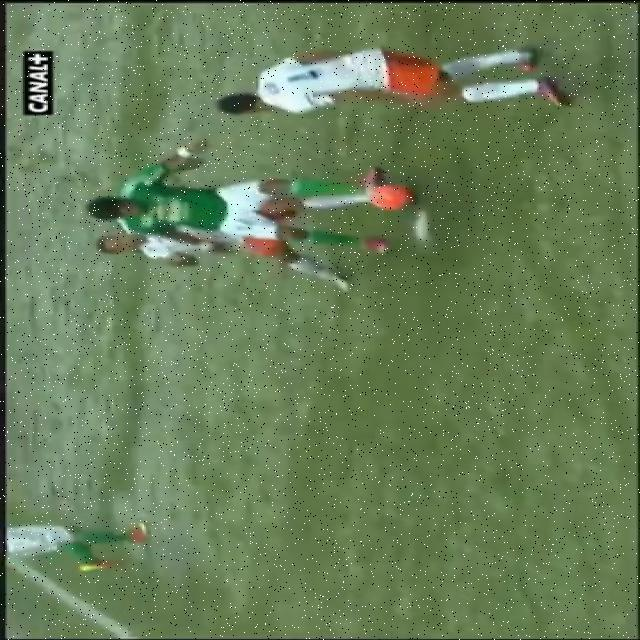ball: (336, 169, 453, 224)
player: (143, 35, 586, 134), (80, 154, 385, 248), (72, 199, 383, 288), (0, 481, 183, 581)
